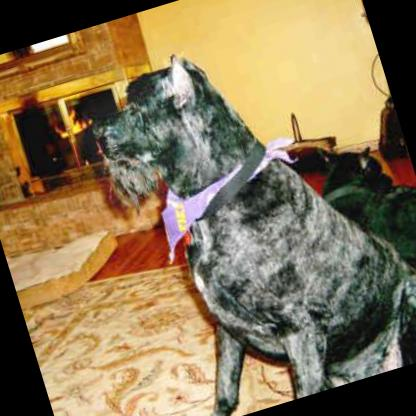Bouvier_des_Flandres: (102, 6, 416, 416), (306, 122, 416, 326)
